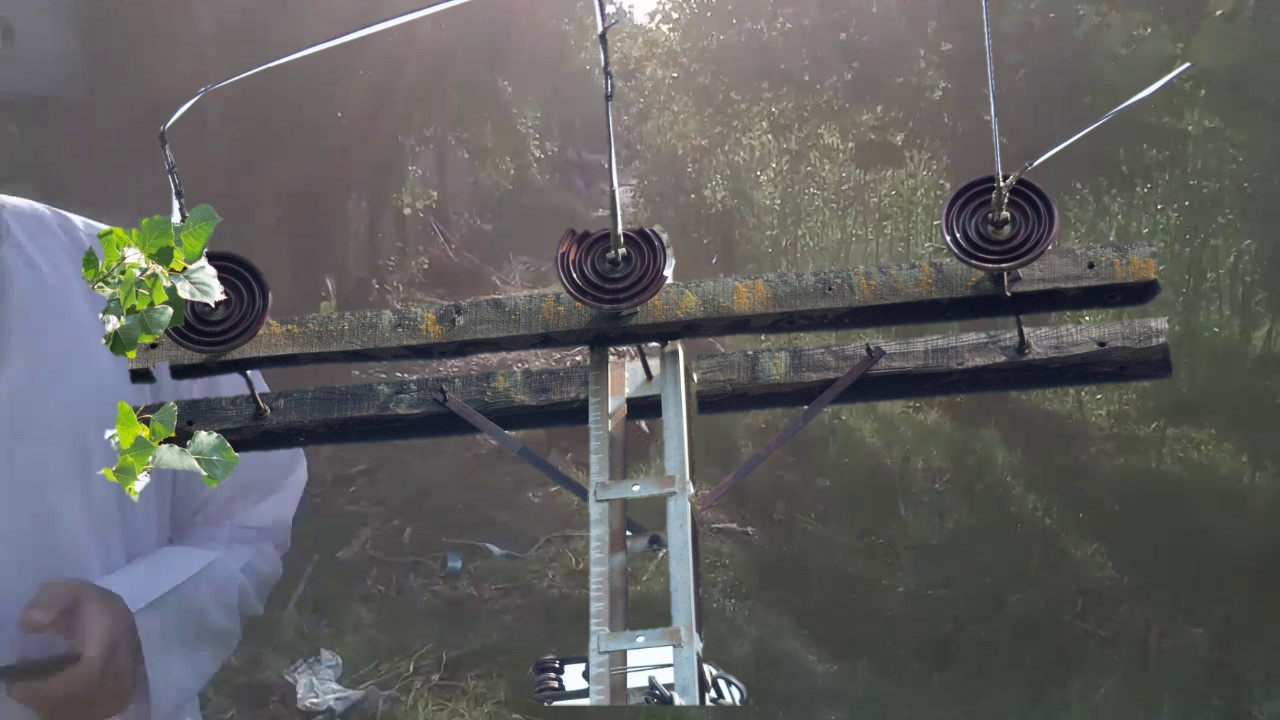defect_disc: (552, 221, 676, 314)
insulator_disc: (940, 176, 1067, 277), (216, 252, 279, 343)
